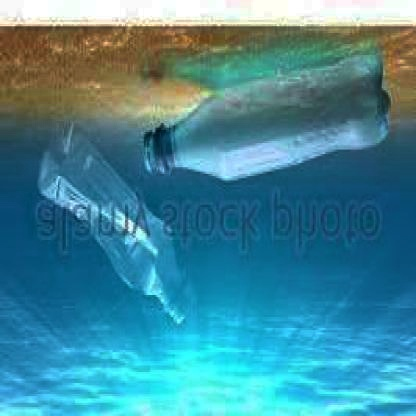pbottle: (27, 116, 225, 324), (132, 46, 398, 183)
